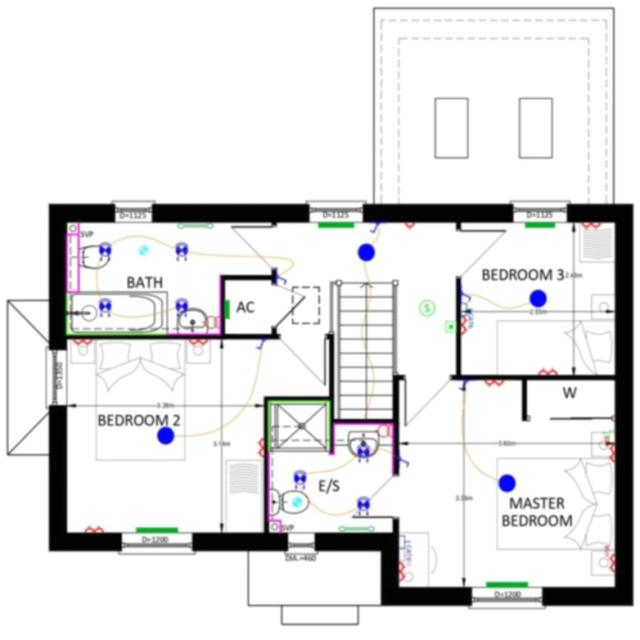Cat 6 Data Socket: (461, 302, 472, 328), (399, 534, 410, 560)
Ceiling Mounted Continuous Extract FanWith Boost Mode Activated By Light Switch: (138, 244, 148, 253), (292, 497, 301, 506)
Co-Ax TV Socket: (398, 548, 410, 564)
Double Socket: (604, 436, 614, 462), (580, 221, 601, 229), (256, 437, 264, 457), (460, 316, 468, 335), (188, 338, 207, 346), (398, 562, 406, 581), (84, 524, 102, 532), (484, 380, 503, 387), (538, 367, 556, 374)
Full Height Tiling: (65, 293, 164, 334), (267, 399, 330, 452)
Light Switch: (369, 222, 380, 232), (399, 456, 409, 466), (458, 380, 468, 390), (256, 339, 266, 349), (461, 292, 470, 302), (276, 274, 286, 283)
Low Energy Downlighter: (355, 496, 370, 515), (97, 297, 111, 316), (356, 443, 370, 462), (293, 469, 306, 489), (175, 297, 188, 316), (98, 242, 111, 260), (175, 242, 188, 260)
Low Energy Pendant Light: (497, 473, 515, 492), (357, 243, 375, 261), (156, 426, 173, 444), (529, 289, 546, 306)
Mains Wired Smoke Detector: (419, 300, 435, 315)
Programmable Room Thermostat: (444, 319, 455, 333)
Radiator: (485, 581, 527, 587), (136, 527, 177, 533), (317, 221, 353, 227), (525, 221, 554, 227), (224, 299, 229, 318)
Shaver Socket: (374, 424, 393, 437), (202, 315, 219, 328)
Single Socket: (403, 222, 415, 229)
Telephone Socket: (603, 430, 615, 442)
USB Double Socket: (603, 545, 615, 573)
